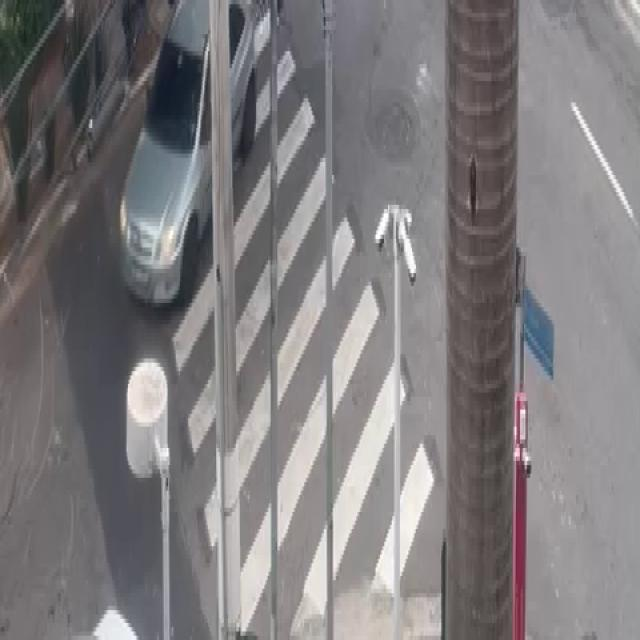car: (109, 5, 283, 344)
